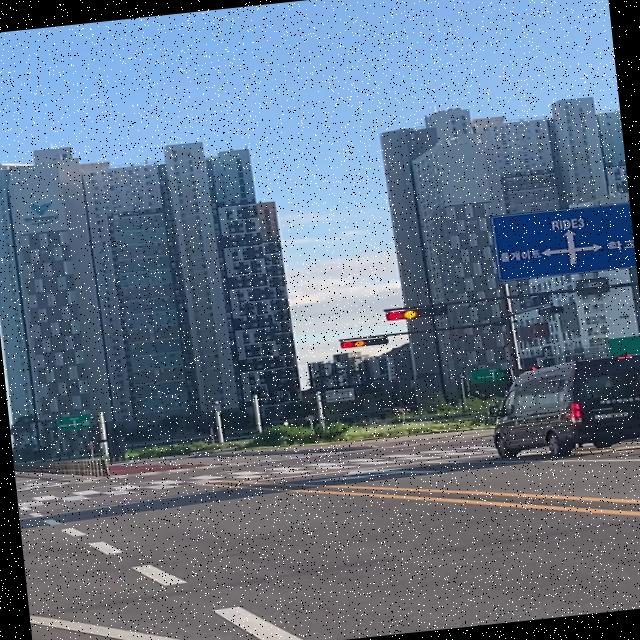yellow_light: (385, 306, 448, 320), (338, 337, 388, 348)
